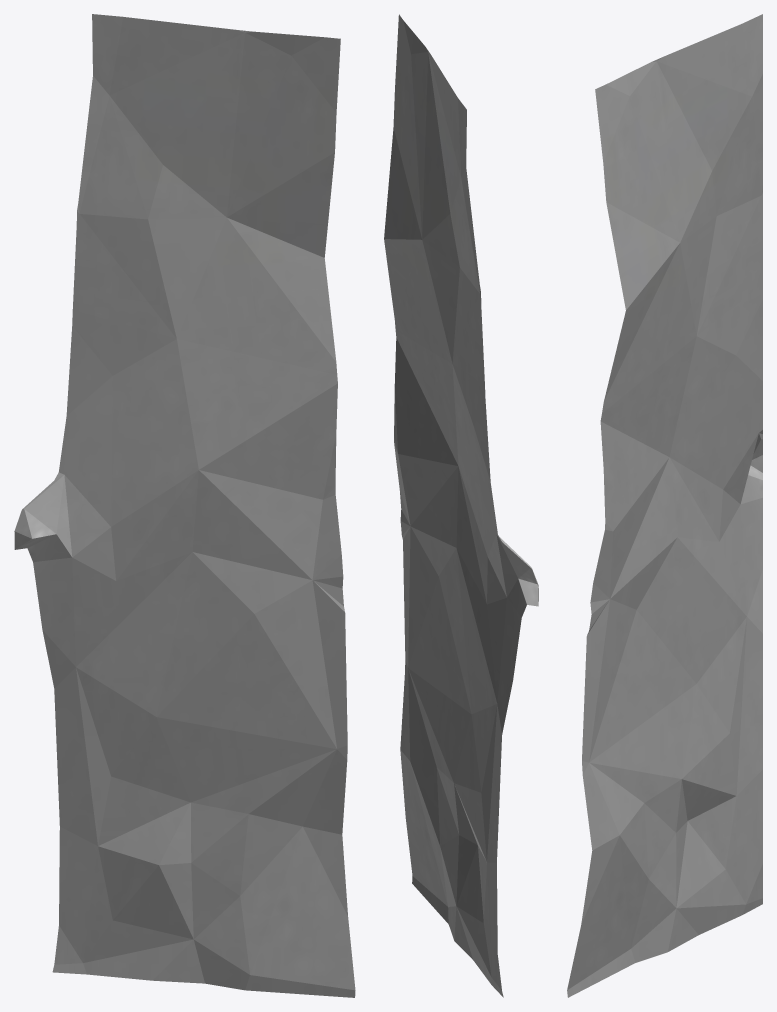
The picture shows the model from 3 angles, left to right: view 1: azimuth 30°, elevation 25°; view 2: azimuth 150°, elevation 25°; view 3: azimuth 270°, elevation 25°; orthographic projection. The views are drawn at different scales.
Bounding box in the file's own units: 0.2205 × 0.8374 × 0.1636.
Materials: 1 (1 with a texture image).
